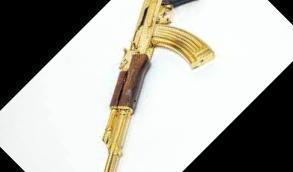larga: (102, 0, 216, 172)
